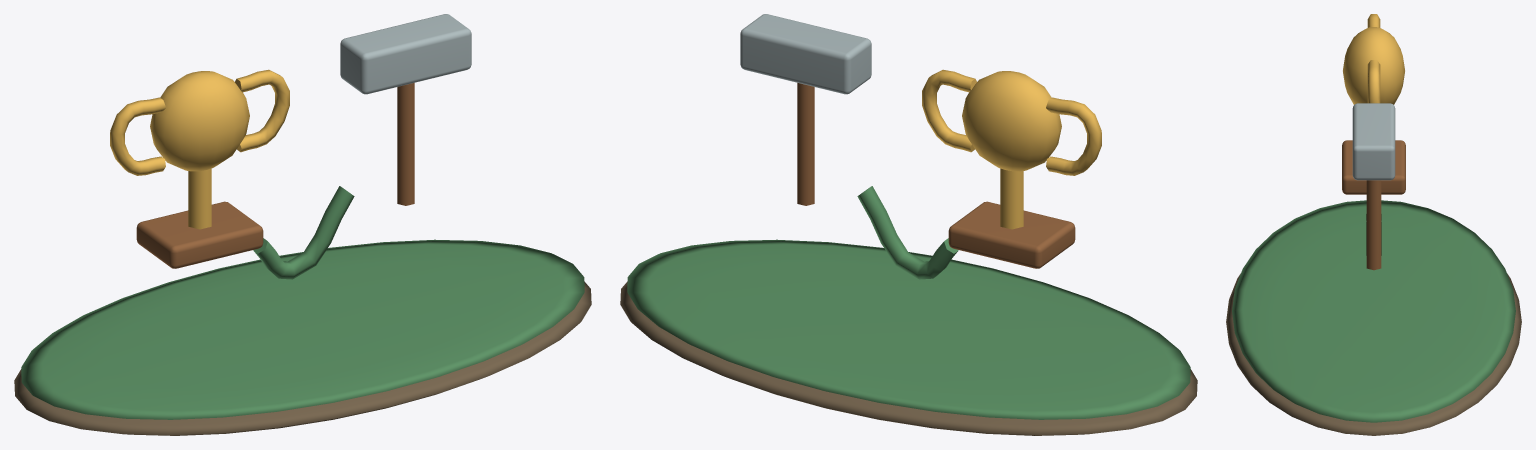
Rendered from complete-second-success-work.glb.
3 renders of one model, left to right at view 1: azimuth 30°, elevation 25°; view 2: azimuth 150°, elevation 25°; view 3: azimuth 270°, elevation 25°, orthographic. The views are drawn at different scales.
Visible parts, largest first — view 1: complete-second-success-work_surface_01, complete-second-success-work_surface_03, complete-second-success-work_surface_00, complete-second-success-work_surface_04, complete-second-success-work_surface_02; view 2: complete-second-success-work_surface_01, complete-second-success-work_surface_03, complete-second-success-work_surface_00, complete-second-success-work_surface_04, complete-second-success-work_surface_02; view 3: complete-second-success-work_surface_01, complete-second-success-work_surface_00, complete-second-success-work_surface_03, complete-second-success-work_surface_04, complete-second-success-work_surface_02.
Boxes of the visible parts, box(x1,y1,x2,y2) form: complete-second-success-work_surface_01: box(21, 186, 584, 419); complete-second-success-work_surface_03: box(110, 69, 289, 229); complete-second-success-work_surface_00: box(14, 281, 591, 435); complete-second-success-work_surface_04: box(340, 14, 471, 94); complete-second-success-work_surface_02: box(136, 83, 414, 268); complete-second-success-work_surface_01: box(627, 186, 1190, 419); complete-second-success-work_surface_03: box(922, 69, 1101, 229); complete-second-success-work_surface_00: box(620, 281, 1197, 435); complete-second-success-work_surface_04: box(740, 14, 871, 94); complete-second-success-work_surface_02: box(797, 83, 1075, 268); complete-second-success-work_surface_01: box(1232, 200, 1515, 422); complete-second-success-work_surface_00: box(1226, 273, 1521, 435); complete-second-success-work_surface_03: box(1343, 14, 1404, 104); complete-second-success-work_surface_04: box(1352, 103, 1395, 180); complete-second-success-work_surface_02: box(1342, 140, 1405, 270).
Size of the model in its own units: 4.56 by 2.45 by 2.5.
